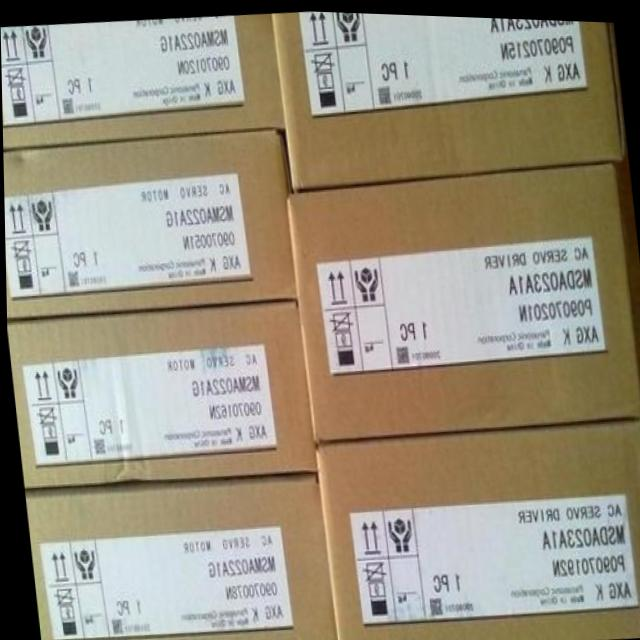box: (285, 161, 640, 441), (313, 415, 640, 640), (272, 9, 625, 190), (6, 299, 315, 490), (3, 128, 295, 319), (23, 474, 334, 640), (0, 11, 284, 149)
